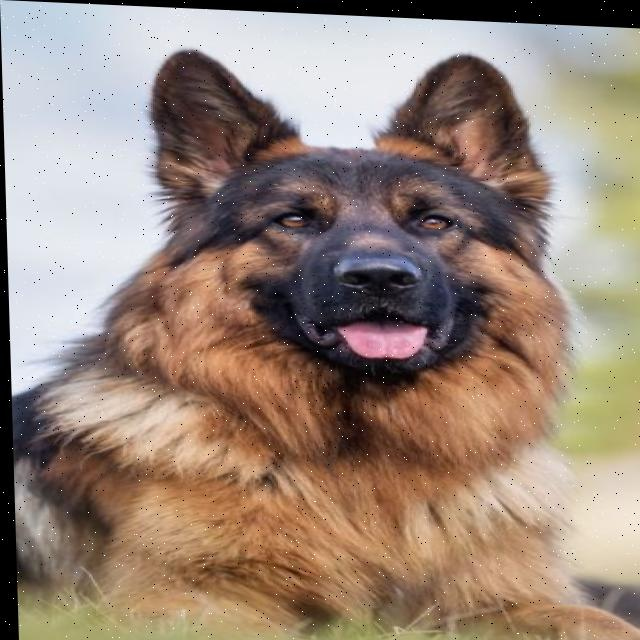GERMAN_SHEPHERD: (1, 25, 640, 640)
